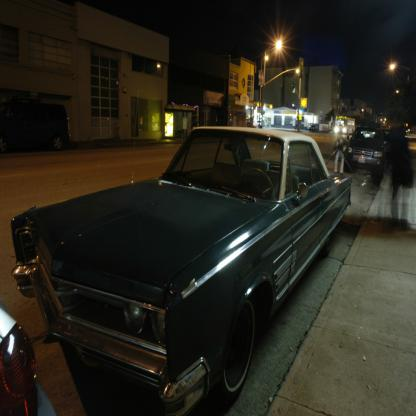Car: (11, 92, 351, 416), (0, 306, 57, 416), (0, 101, 71, 152), (344, 126, 388, 183), (378, 127, 394, 160), (254, 118, 265, 129), (309, 124, 318, 132)
